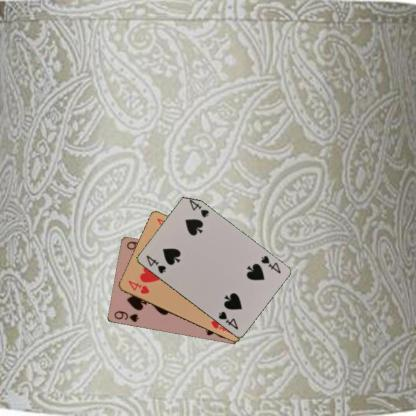4h: (125, 278, 151, 295)
4s: (143, 253, 167, 275), (258, 253, 282, 275)
9s: (111, 308, 140, 324)
